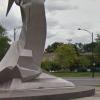Statue: (6, 3, 56, 84)
